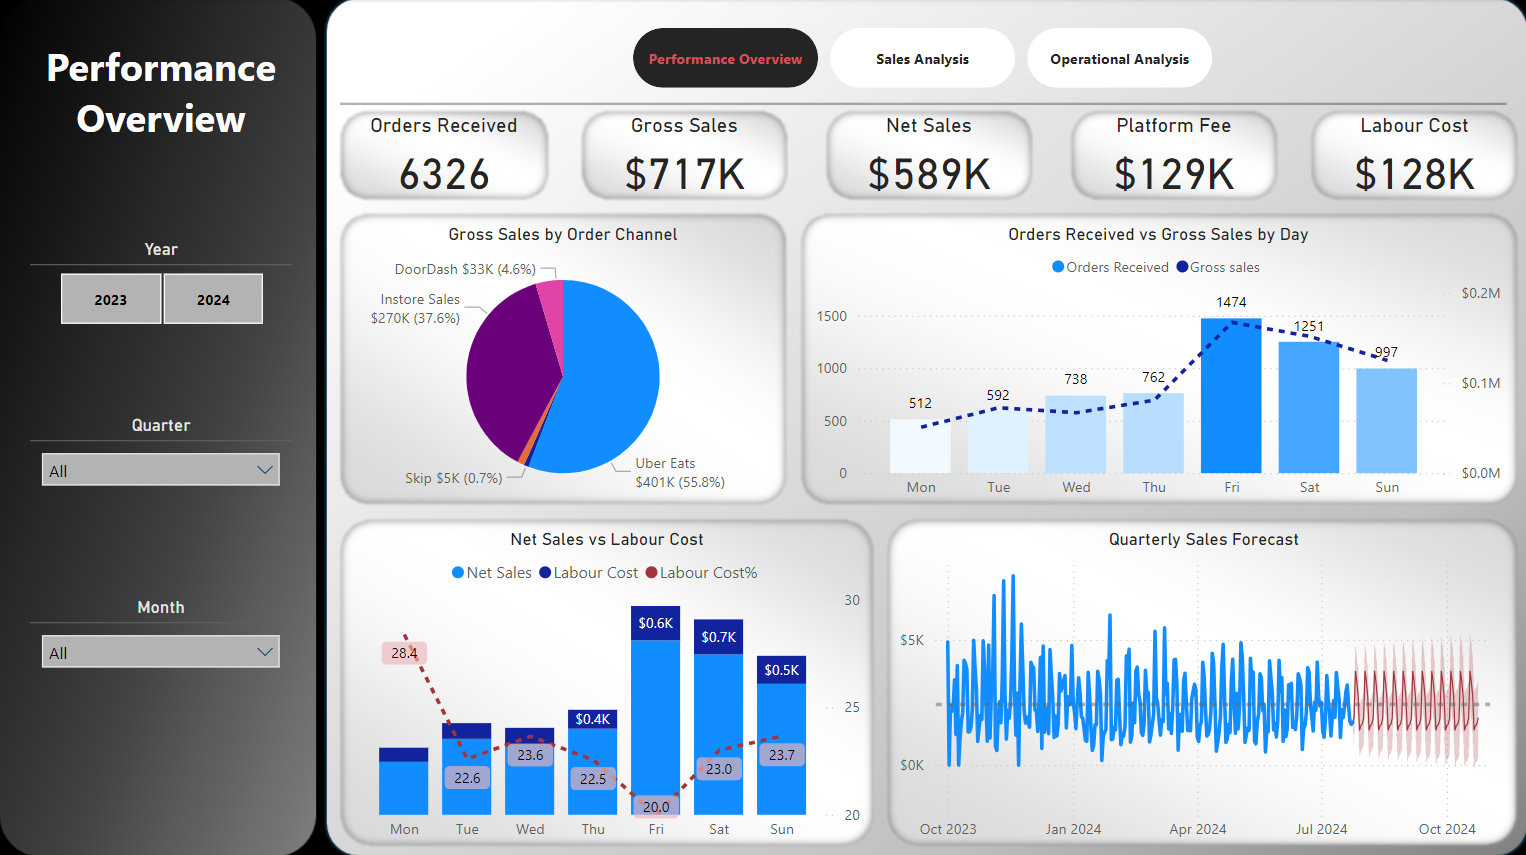

What the dashboard file says about the page in this screenshot:
{"tool":"powerbi","page":{"name":"Performance Overview","canvas":[1280,720],"ordinal":0},"visuals":[{"type":"pageNavigator","box":[529.6,24.2,486.5,50],"z":0},{"type":"textbox","box":[25.1,28.5,219.3,111.3],"z":2000},{"type":"shape","box":[284.2,73.8,976.6,28.2],"z":3000},{"type":"slicer","title":"Year","fields":{"Values":["Date.Year"]},"box":[24.8,200.9,219.5,76.9],"z":5000},{"type":"slicer","title":"Quarter","fields":{"Values":["Date.Quarter"]},"box":[24.8,348.4,219.5,78.1],"z":6000},{"type":"slicer","title":"Month","fields":{"Values":["Date.Month"]},"box":[24.8,501,219.5,78.1],"z":7000},{"type":"card","title":"Orders Received","fields":{"Values":["Sum(Sales Report.Orders_Count)"]},"box":[283.8,95.9,175.7,76.1],"z":8000},{"type":"card","title":"Gross Sales","fields":{"Values":["Sum(Sales Report.Gross_Sales)"]},"box":[486.4,95.4,173.3,76.2],"z":9000},{"type":"card","title":"Net Sales","fields":{"Values":["Sum(Sales Report.Net_Sales)"]},"box":[691.5,95.4,172.5,76.2],"z":10000},{"type":"card","title":"Labour Cost","fields":{"Values":["Sum(Sales Report.Labour_Cost)"]},"box":[1100.9,95.4,166.6,76.2],"z":11000},{"type":"pieChart","title":"Gross Sales by Order Channel","fields":{"Y":["Sum(Sales Report.UberEats_Tendered)","Sum(Sales Report.SkipTheDishes_Tendered)","Sum(Sales Report.Ritual_Tendered)","Sum(Sales Report.InStore_Tendered)","Sum(Sales Report.DoorDash_Tendered)"]},"box":[283,188.4,376.7,239.4],"z":12000},{"type":"card","title":"Platform Fee","fields":{"Values":[" Measures.PlatformFee"]},"box":[895.8,95.4,174.1,76.2],"z":13000},{"type":"lineClusteredColumnComboChart","title":"Orders Received vs Gross Sales  by Day","fields":{"Y":["Sum(Sales Report.Orders_Count)"],"Category":["Date.Day"],"Y2":["Sum(Sales Report.Gross_Sales)"]},"box":[678.1,188.4,583.5,238.6],"z":14000},{"type":"lineChart","title":"Quarterly Sales Forecast","fields":{"Y":["Sum(Sales Report.Gross_Sales)"],"Category":["Date.Date"]},"box":[748.5,443.7,519.1,269.6],"z":15000},{"type":"lineStackedColumnComboChart","title":"Net Sales vs Labour Cost ","fields":{"Category":["Date.Day"],"Y":["Avg(Sales Report.Net_Sales)","Avg(Sales Report.Labour_Cost)"],"Y2":["Avg(Sales Report.Labour_Cost%)"]},"box":[291.3,443.7,433.7,269.6],"z":16000}]}

Visuals, with their boxes in screenshot pixels (x1, y1, x2, y2), scaled from the page's 1280x720 canvas onto the 1526x855 screenshot:
pageNavigator: (631, 29, 1211, 88)
textbox: (30, 34, 291, 166)
shape: (339, 88, 1503, 121)
"Year" slicer: (30, 239, 291, 330)
"Quarter" slicer: (30, 414, 291, 506)
"Month" slicer: (30, 595, 291, 688)
"Orders Received" card: (338, 114, 548, 204)
"Gross Sales" card: (580, 113, 786, 204)
"Net Sales" card: (824, 113, 1030, 204)
"Labour Cost" card: (1312, 113, 1511, 204)
"Gross Sales by Order Channel" pieChart: (337, 224, 786, 508)
"Platform Fee" card: (1068, 113, 1276, 204)
"Orders Received vs Gross Sales  by Day" lineClusteredColumnComboChart: (808, 224, 1504, 507)
"Quarterly Sales Forecast" lineChart: (892, 527, 1511, 847)
"Net Sales vs Labour Cost " lineStackedColumnComboChart: (347, 527, 864, 847)
